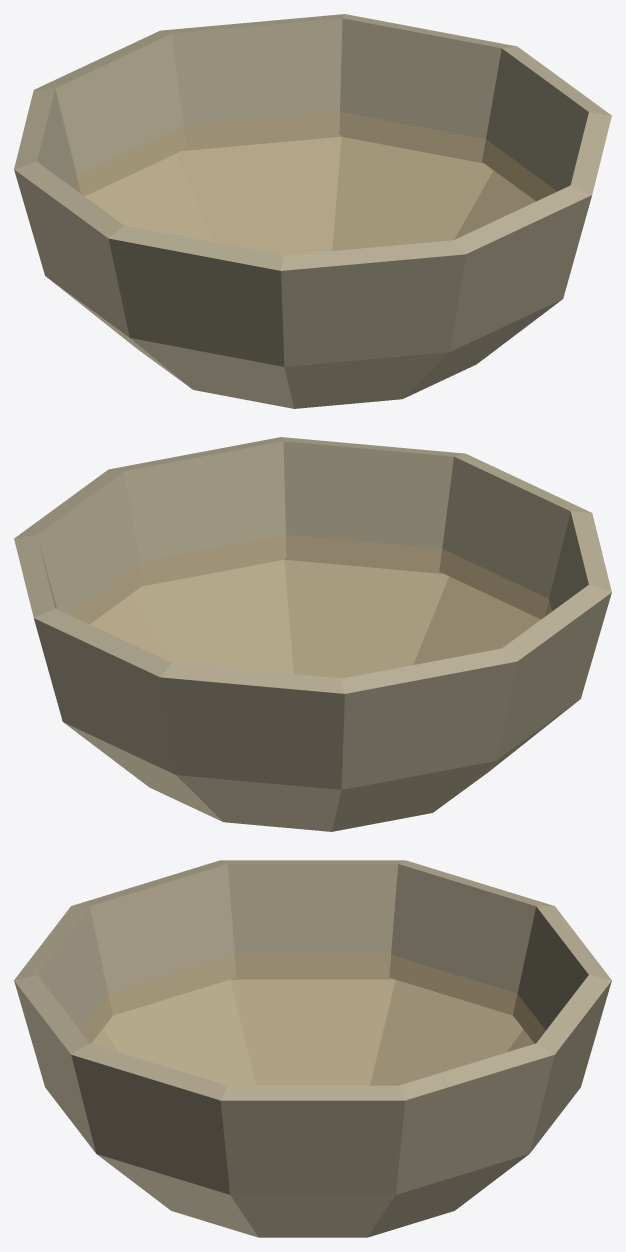
Rendered from Bowl_Full.glb.
The picture shows the model from 3 angles, top to bottom: view 1: azimuth 30°, elevation 25°; view 2: azimuth 150°, elevation 25°; view 3: azimuth 270°, elevation 25°; orthographic projection. The views are drawn at different scales.
Visible parts, largest first — view 1: Bowl_Full.001; view 2: Bowl_Full.001; view 3: Bowl_Full.001.
Part boxes in pixels (x1=…): Bowl_Full.001: x1=14, y1=14, x2=611, y2=408; Bowl_Full.001: x1=14, y1=437, x2=611, y2=831; Bowl_Full.001: x1=14, y1=860, x2=611, y2=1237.
Bounding box in the file's own units: 0.2624 × 0.098 × 0.2759.
Materials: 2 (2 with a texture image).
